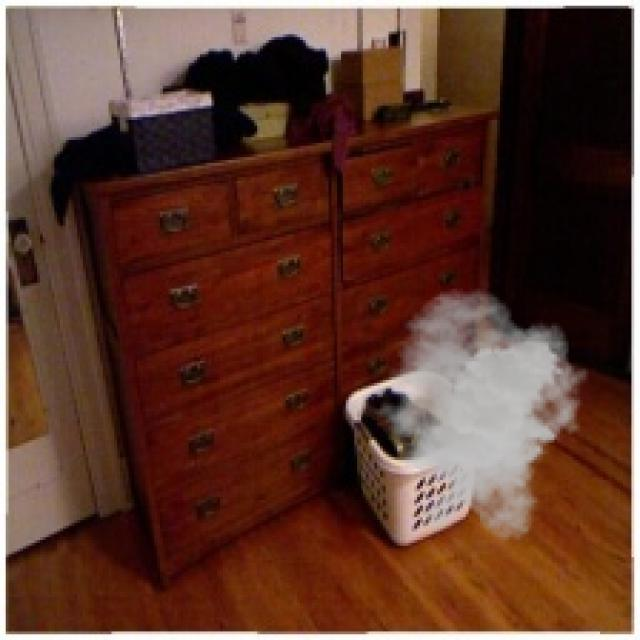smoke: (363, 288, 588, 543)
